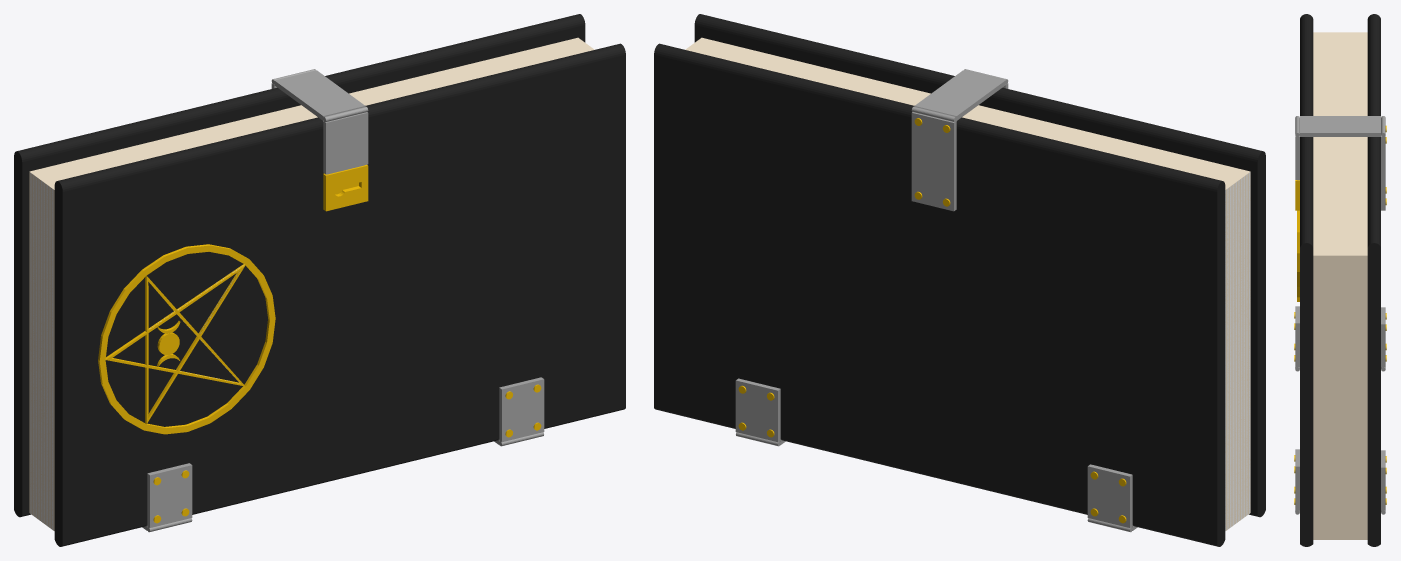
3 views of the same model, side by side, from view 1: azimuth 30°, elevation 25°; view 2: azimuth 150°, elevation 25°; view 3: azimuth 270°, elevation 25° (orthographic). The views are drawn at different scales.
Visible parts, largest first — view 1: book of shadows; view 2: book of shadows; view 3: book of shadows.
Part boxes in pixels (x1,y1,x2,y2): book of shadows: (14,14,625,546); book of shadows: (654,14,1265,546); book of shadows: (1294,14,1386,546).
Size of the model in its own units: 13.98 by 8.83 by 2.39.
